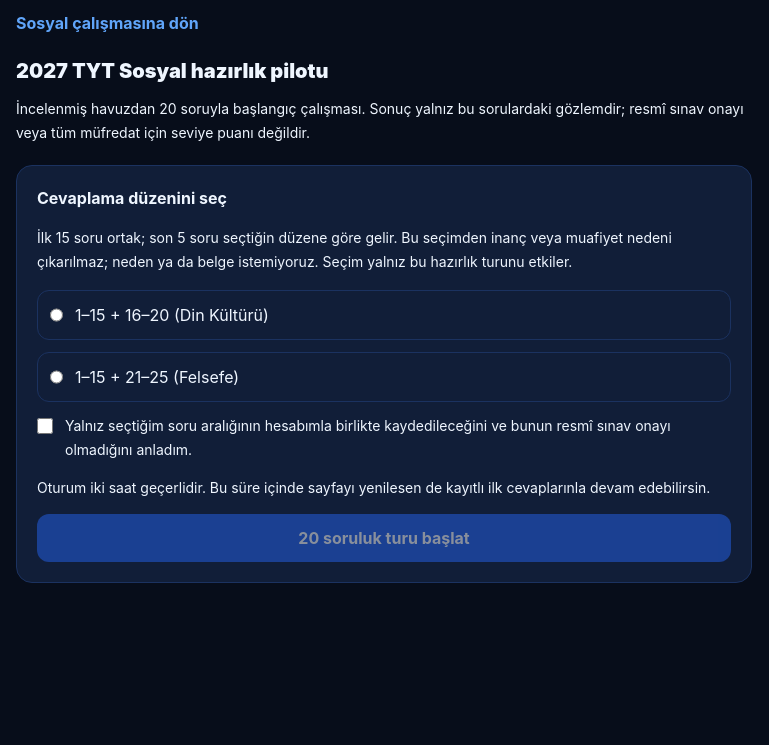
Test: preparation learner session › requires notice and choice, starts once on a double click and displays passage
This screenshot has width=769, height=745.
Check: the button "20 soruluk turu başlat" is disabled, box [37,514,731,562]
Check: the heading "Cevaplama düzenini seç" is shown, box [37,188,227,208]
Step 1. Click the radio button labelled "1–15 + 16–20 (Din Kültürü)" → (56, 315), box [50,303,63,327]
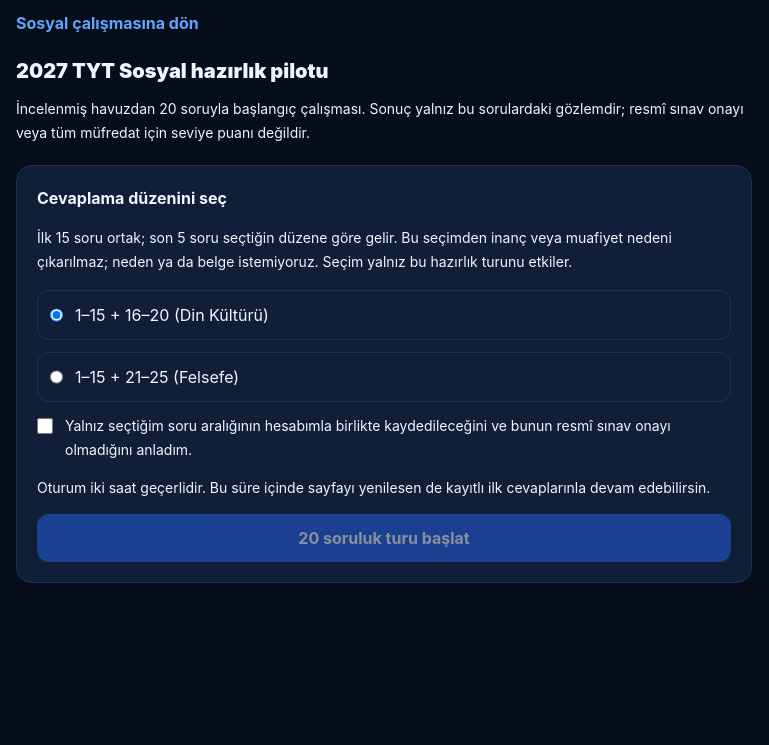
Step 2. Click the checkbox → (45, 426), box [37,418,53,434]
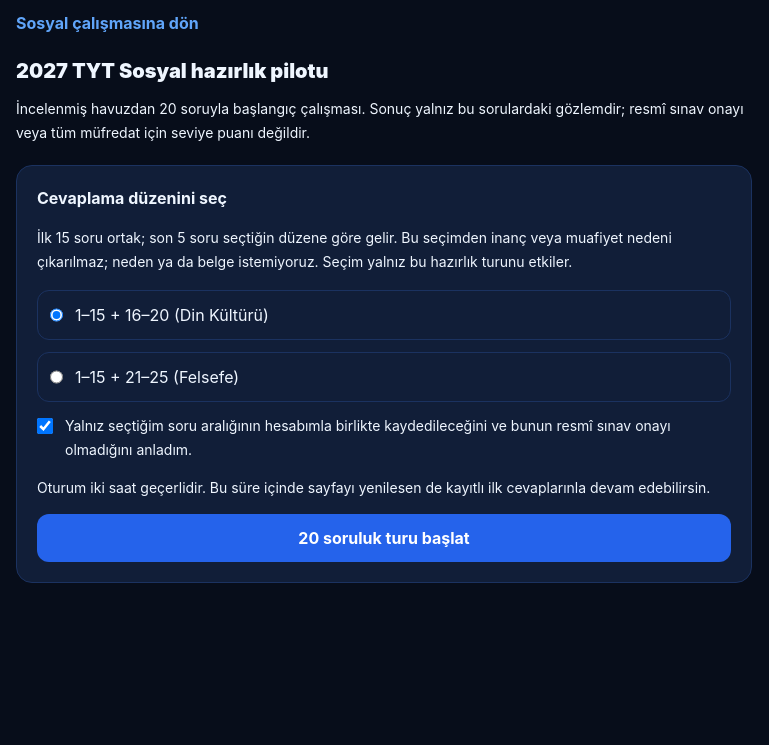
Step 3. Click the button "20 soruluk turu başlat" → (384, 538), box [37,514,731,562]
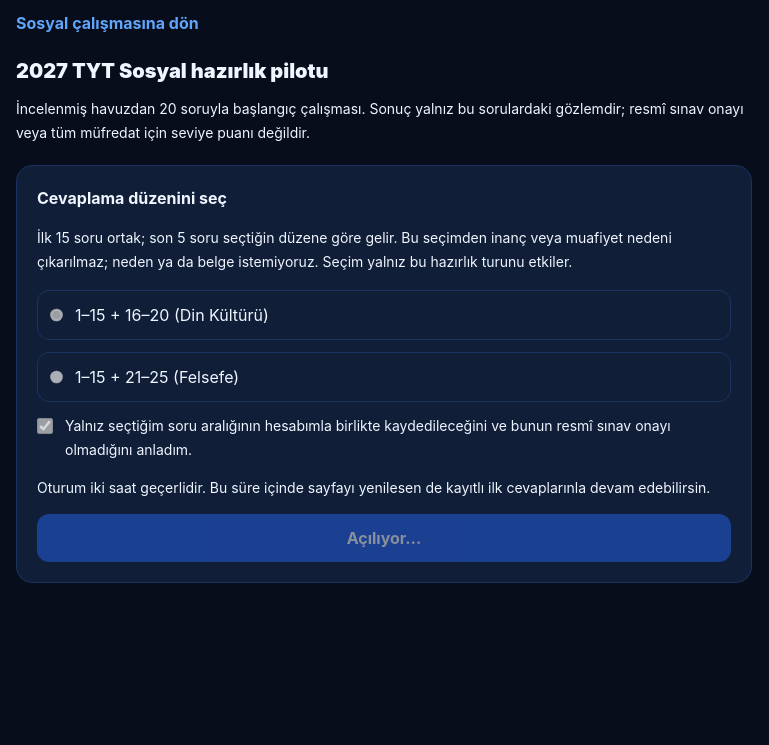
Step 4. Click the button named "20 soruluk turu başlat" → (384, 538), box [37,514,731,562]
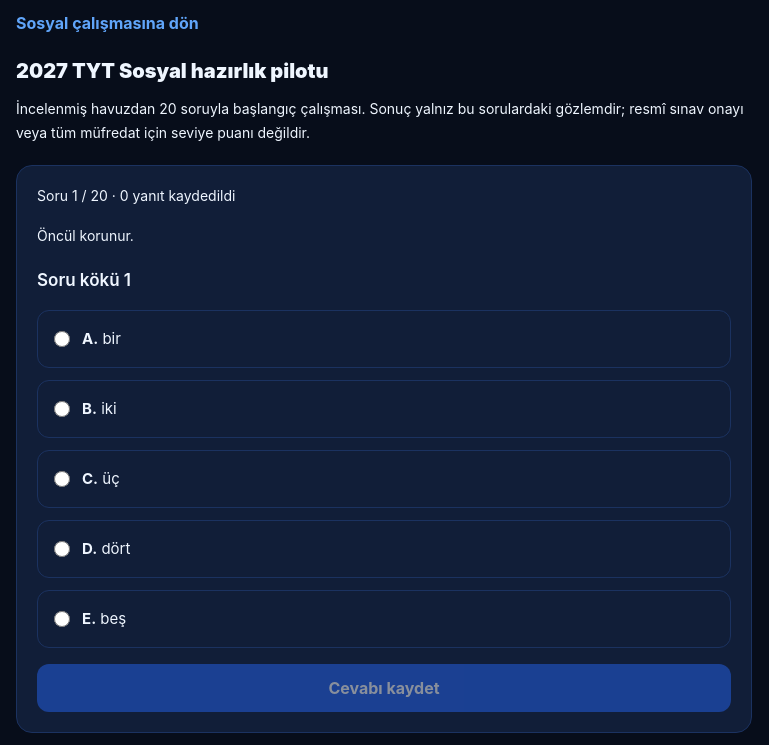
Check: the text "Soru kökü 1" is shown, box [37,266,131,294]
Check: the text "Öncül korunur." is shown, box [37,227,134,244]
